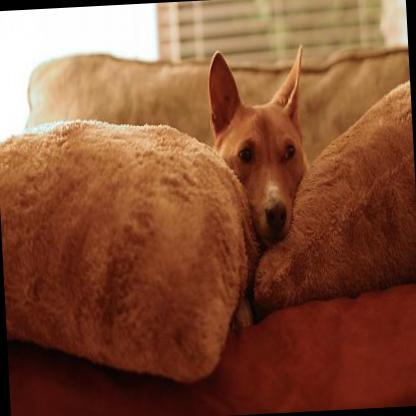basenji: (204, 43, 318, 334)
